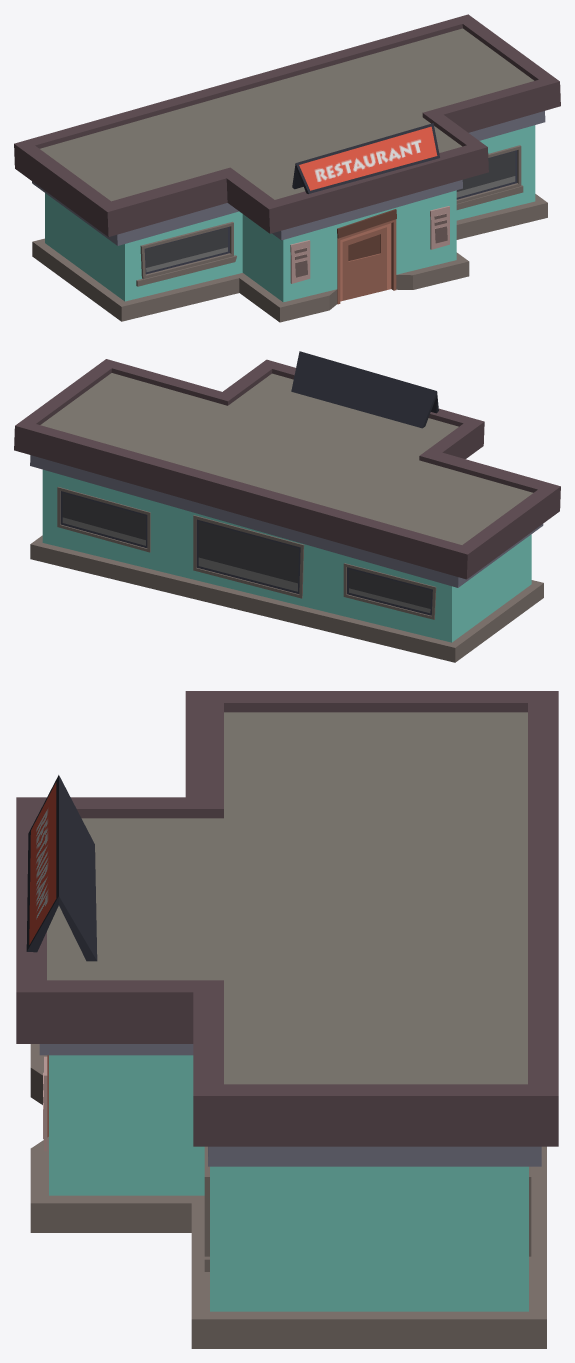
Rendered from restaurant02_color03.fbx.
3 views of the same model, one above another, from view 1: azimuth 30°, elevation 25°; view 2: azimuth 150°, elevation 25°; view 3: azimuth 270°, elevation 25° (orthographic). The views are drawn at different scales.
Visible parts, largest first — view 1: restaurant02_color02.001; view 2: restaurant02_color02.001; view 3: restaurant02_color02.001.
Part boxes in pixels (<box>): restaurant02_color02.001: <box>14,14,560,322</box>; restaurant02_color02.001: <box>14,351,560,662</box>; restaurant02_color02.001: <box>16,691,558,1348</box>.
Size of the model in its own units: 2266 by 738 by 1173.
